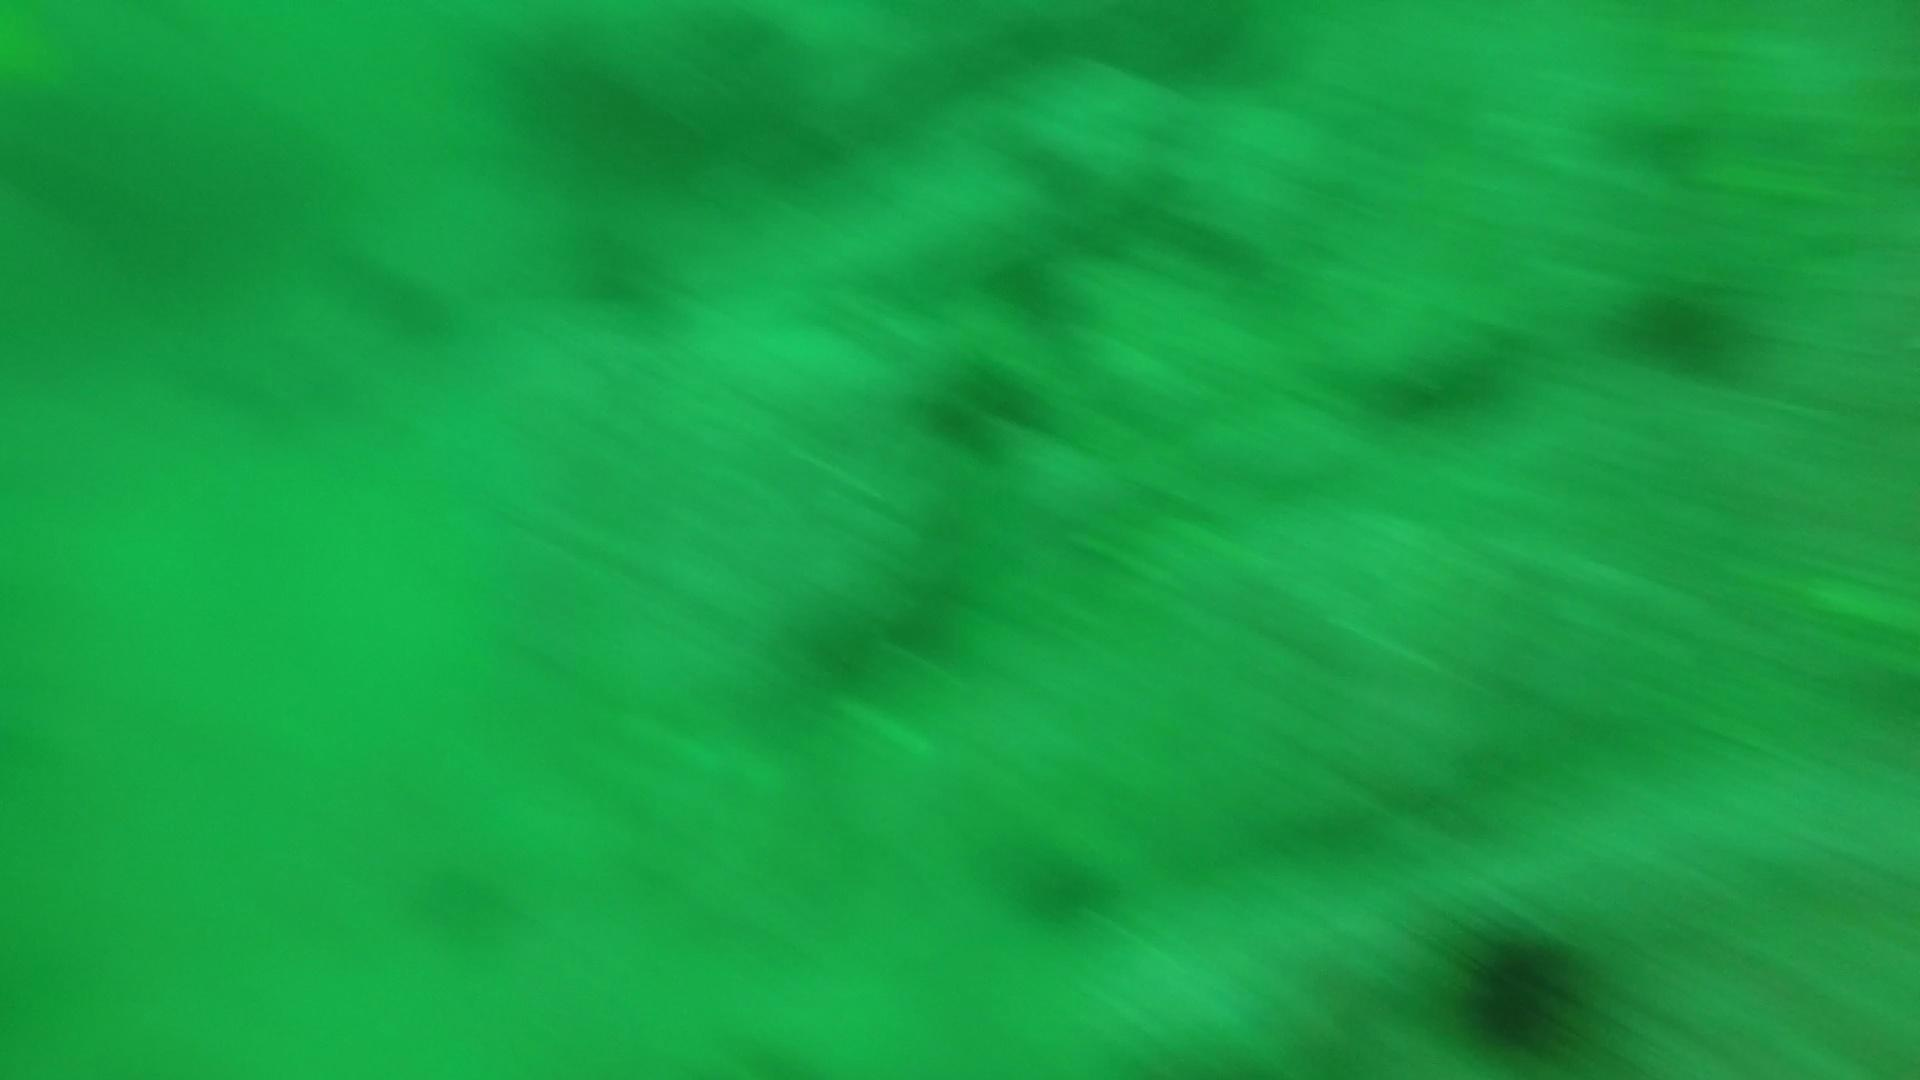echinus: (1448, 918, 1592, 1058), (1360, 326, 1516, 427), (1610, 272, 1753, 380), (913, 349, 1044, 458), (400, 847, 527, 951), (560, 216, 684, 323), (997, 832, 1122, 934)
